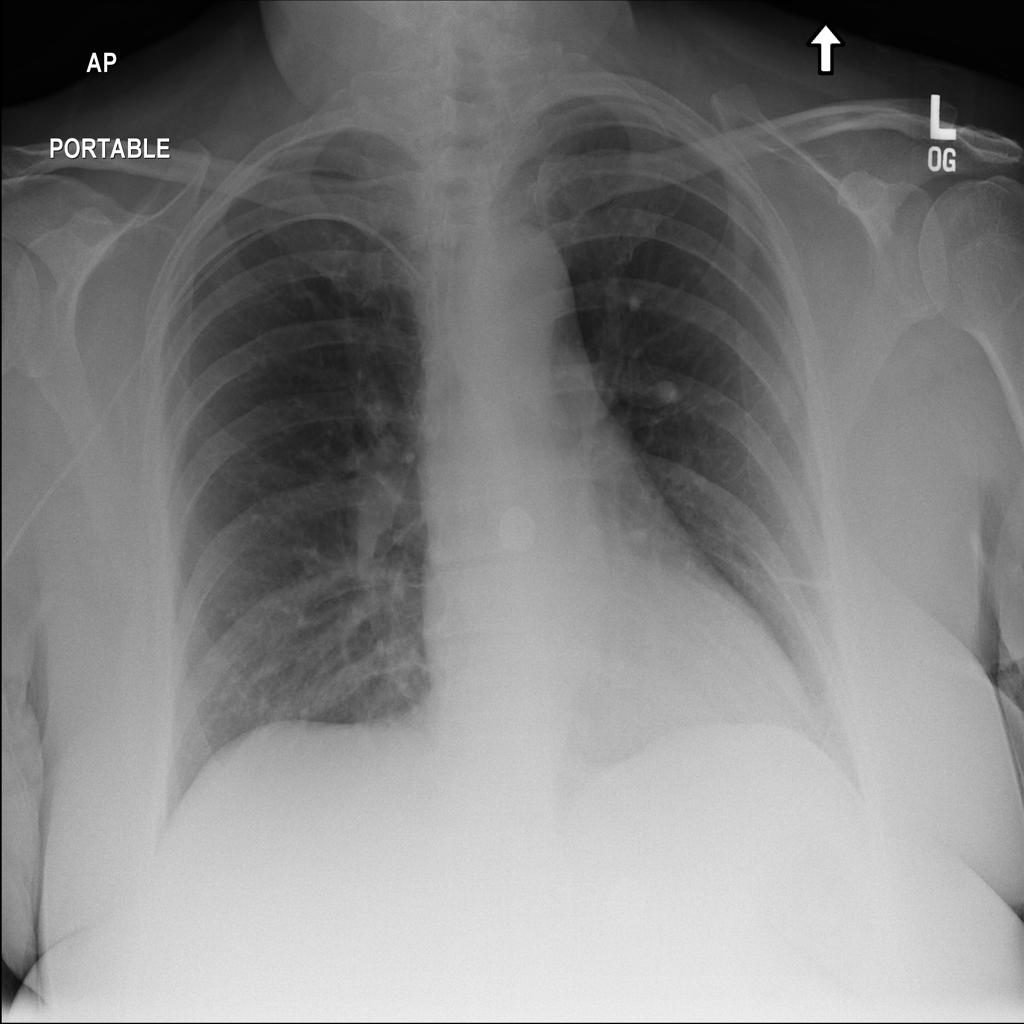nodule: (643, 367, 695, 416)
